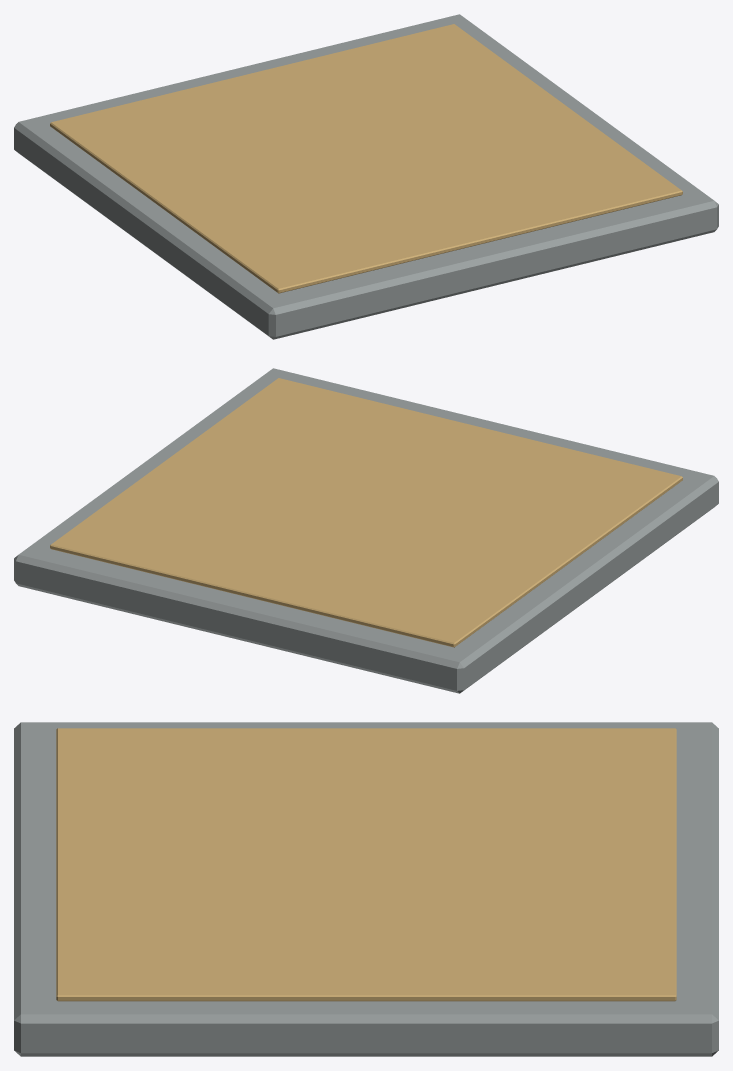
Rendered from path_1.glb.
3 renders of one model, top to bottom at view 1: azimuth 30°, elevation 25°; view 2: azimuth 150°, elevation 25°; view 3: azimuth 270°, elevation 25°, orthographic. The views are drawn at different scales.
Visible parts, largest first — view 1: path_1; view 2: path_1; view 3: path_1.
Part boxes in pixels (x1,y1,x2,y2): path_1: [14, 14, 718, 339]; path_1: [14, 368, 718, 693]; path_1: [14, 722, 718, 1056].
Size of the model in its own units: 1.5 by 0.1155 by 1.5.
